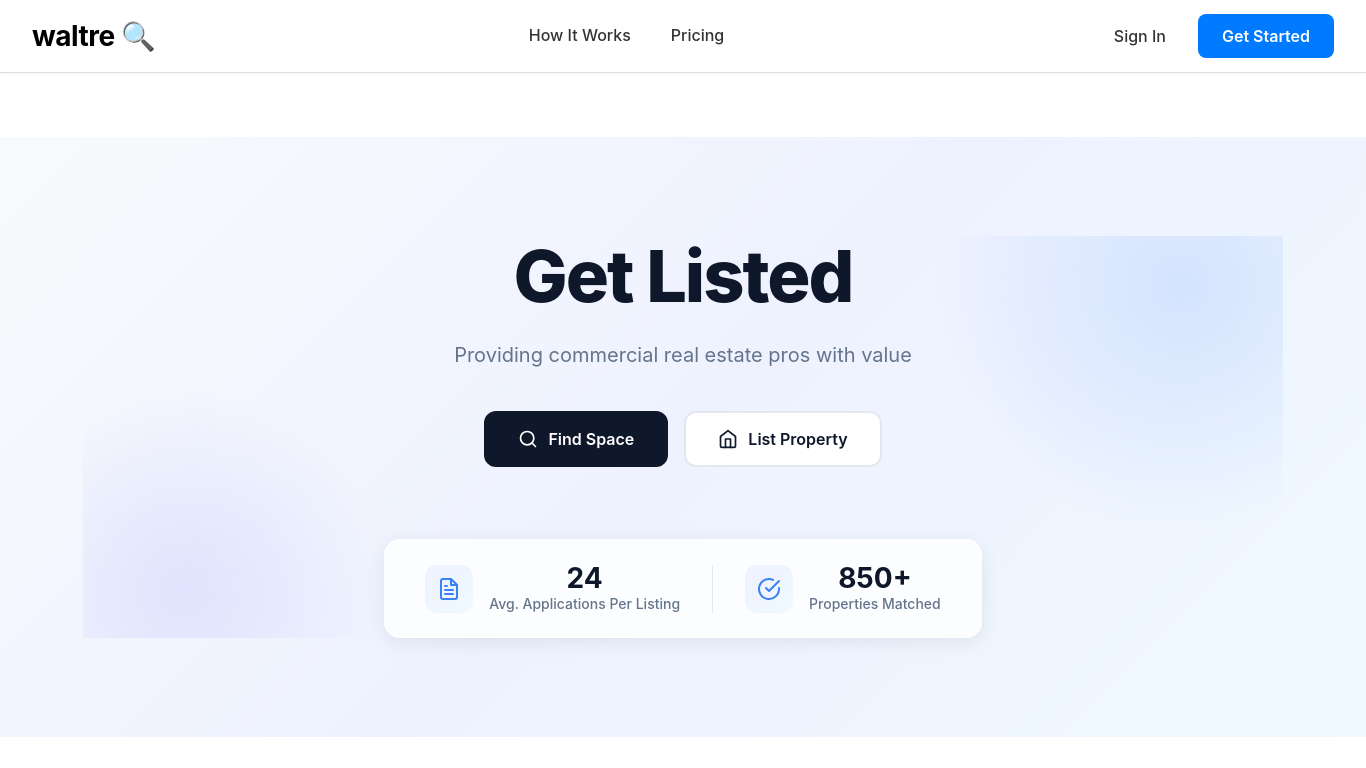
Scenario: Login Page Integration › Get Started button in navigation opens SignupModal
Click Get Started button in navigation (use first one - desktop)
Click the button "Get Started" at (1266, 36), box [1198,14,1334,58]
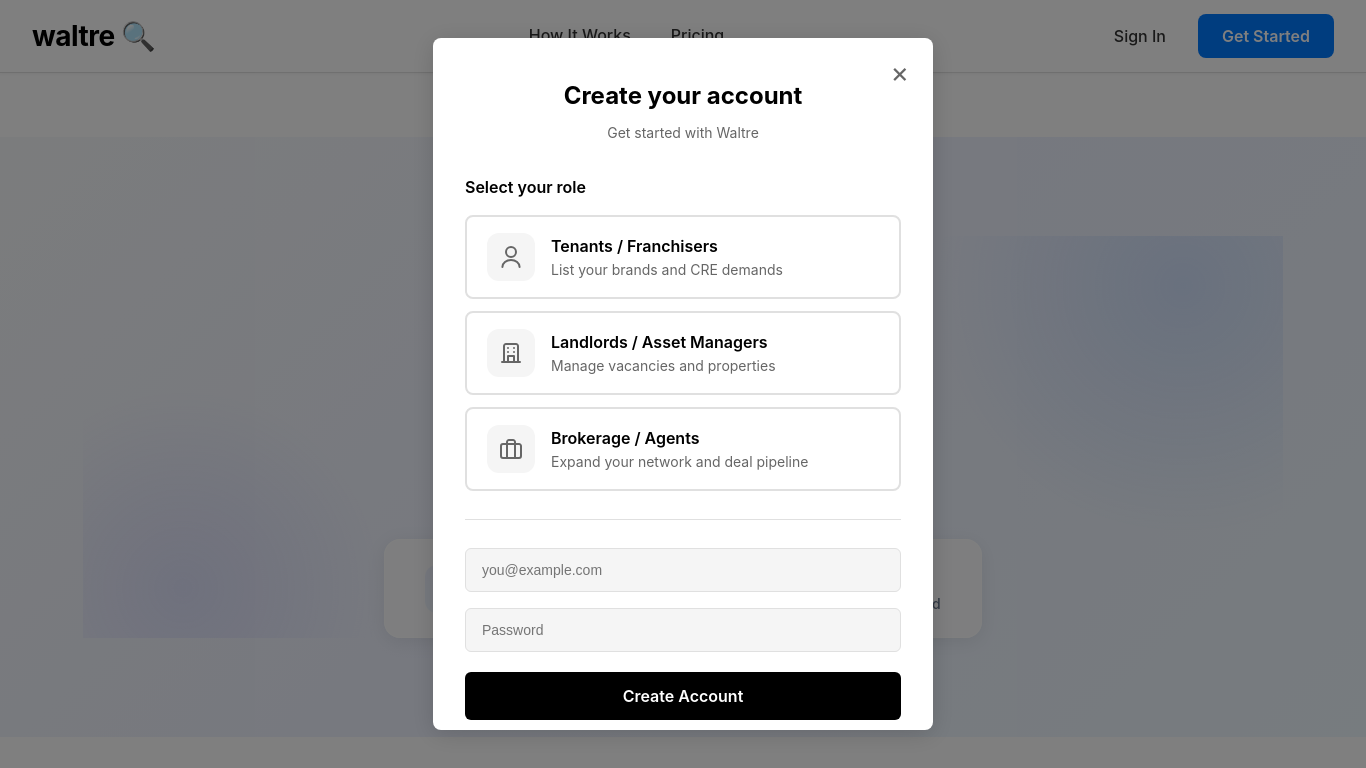
Expected: the dialog is shown
Expected: the heading "Create your account" is shown, [564,81,802,110]
